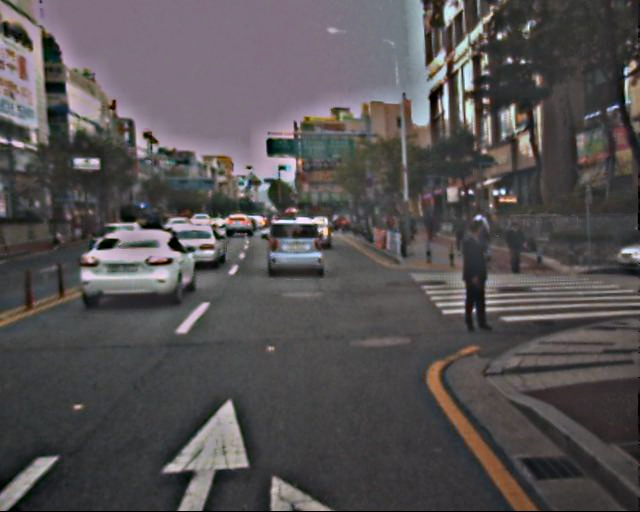person: (450, 219, 496, 330), (469, 206, 492, 261), (504, 218, 526, 272), (451, 210, 467, 248)
